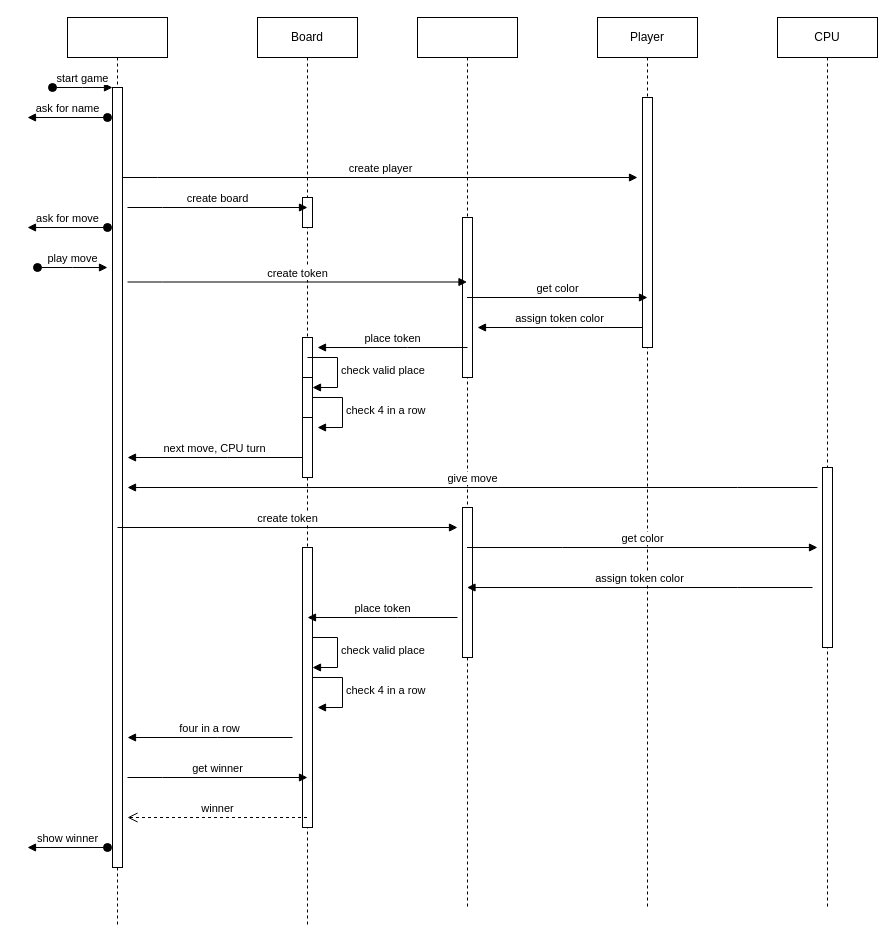
Image size: 895x945. Some labels were removed from this diagram. The shapes that lost their labels are listed below. From the top down, each one's box as (x1, y1, x2, y2) in pixels, then its label:
(66, 16, 168, 928): Connect4
(416, 16, 518, 908): Token
